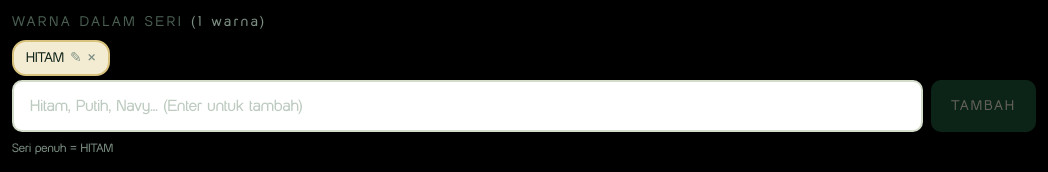
Test: WarnaSection › rename warna › klik ✎ membuka mode edit dengan input terisi nama saat ini
Click the button titled "Ganti nama warna" at (76, 58), box 70,51 -> 82,65
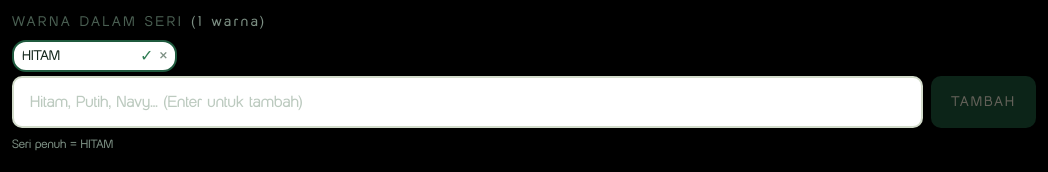
Expected: the field showing "HITAM" is shown, 22,46 -> 134,66
